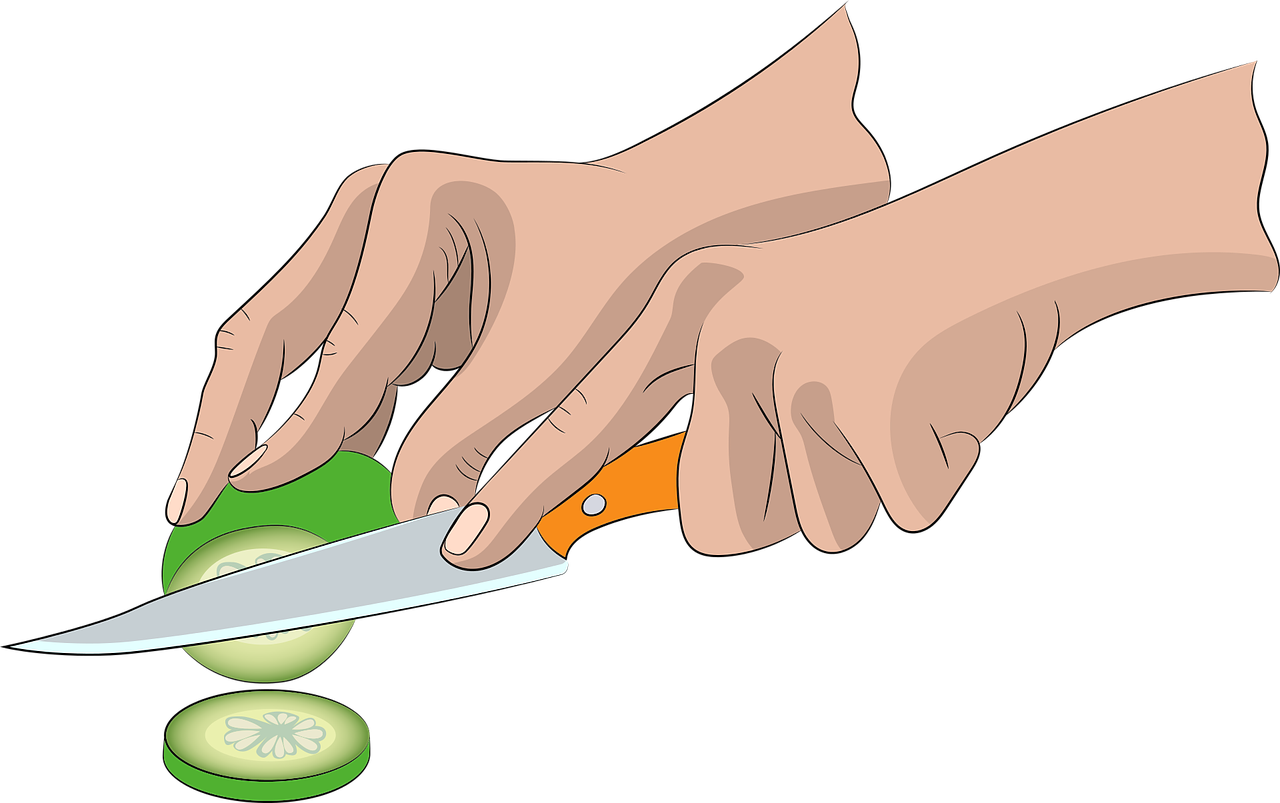knife: (0, 424, 770, 663)
